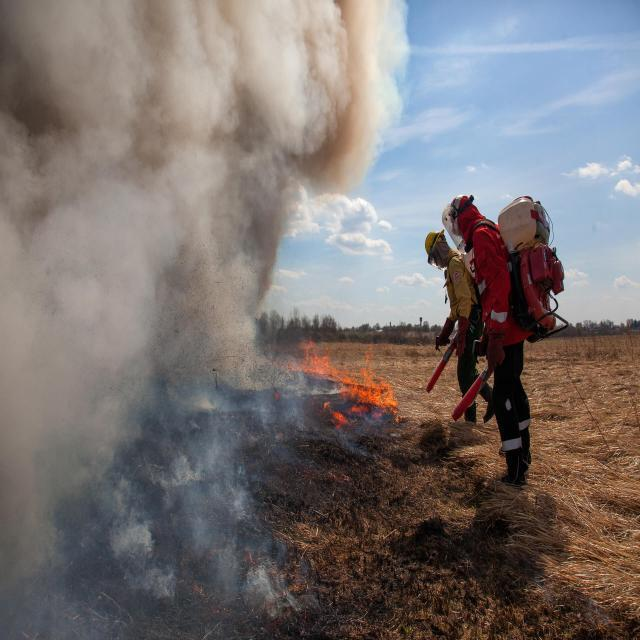Fire: (286, 336, 401, 428)
Smoke: (0, 0, 404, 634)
